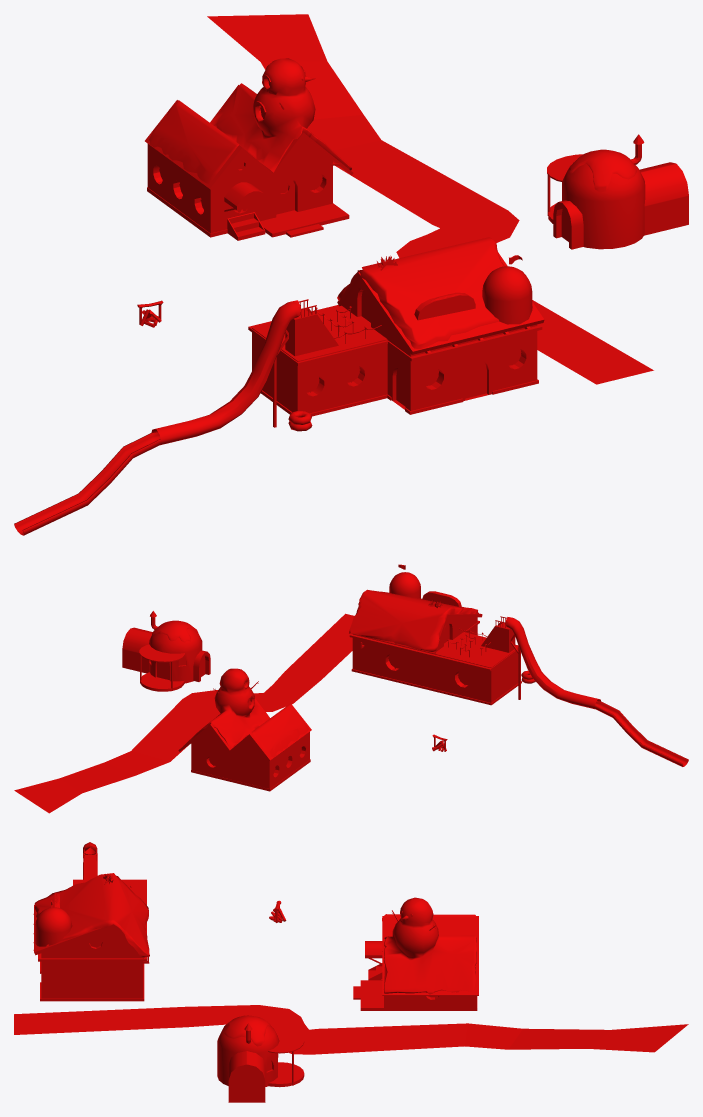
The model's file is Neighborhood_PudgyPortLocked.glb.
3 renders of one model, top to bottom at view 1: azimuth 30°, elevation 25°; view 2: azimuth 150°, elevation 25°; view 3: azimuth 270°, elevation 25°, orthographic. The views are drawn at different scales.
Visible parts, largest first — view 1: Neighborhood_PudgyPortLocked_PudgyPort1_group2_pasted__polyS, Object_PudgyPortRoad; view 2: Neighborhood_PudgyPortLocked_PudgyPort1_group2_pasted__polyS, Object_PudgyPortRoad; view 3: Neighborhood_PudgyPortLocked_PudgyPort1_group2_pasted__polyS, Object_PudgyPortRoad.
Boxes of the visible parts, left/top/right/bottom form: Neighborhood_PudgyPortLocked_PudgyPort1_group2_pasted__polyS: left=14, top=58, right=688, bottom=535; Object_PudgyPortRoad: left=207, top=14, right=653, bottom=384; Neighborhood_PudgyPortLocked_PudgyPort1_group2_pasted__polyS: left=122, top=564, right=688, bottom=791; Object_PudgyPortRoad: left=14, top=613, right=353, bottom=813; Neighborhood_PudgyPortLocked_PudgyPort1_group2_pasted__polyS: left=33, top=842, right=478, bottom=1102; Object_PudgyPortRoad: left=14, top=1005, right=688, bottom=1054.
Size of the model in its own units: 38.93 by 9.51 by 40.23.
